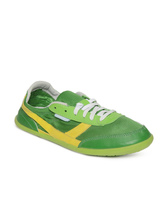shoes: (11, 78, 155, 158)
